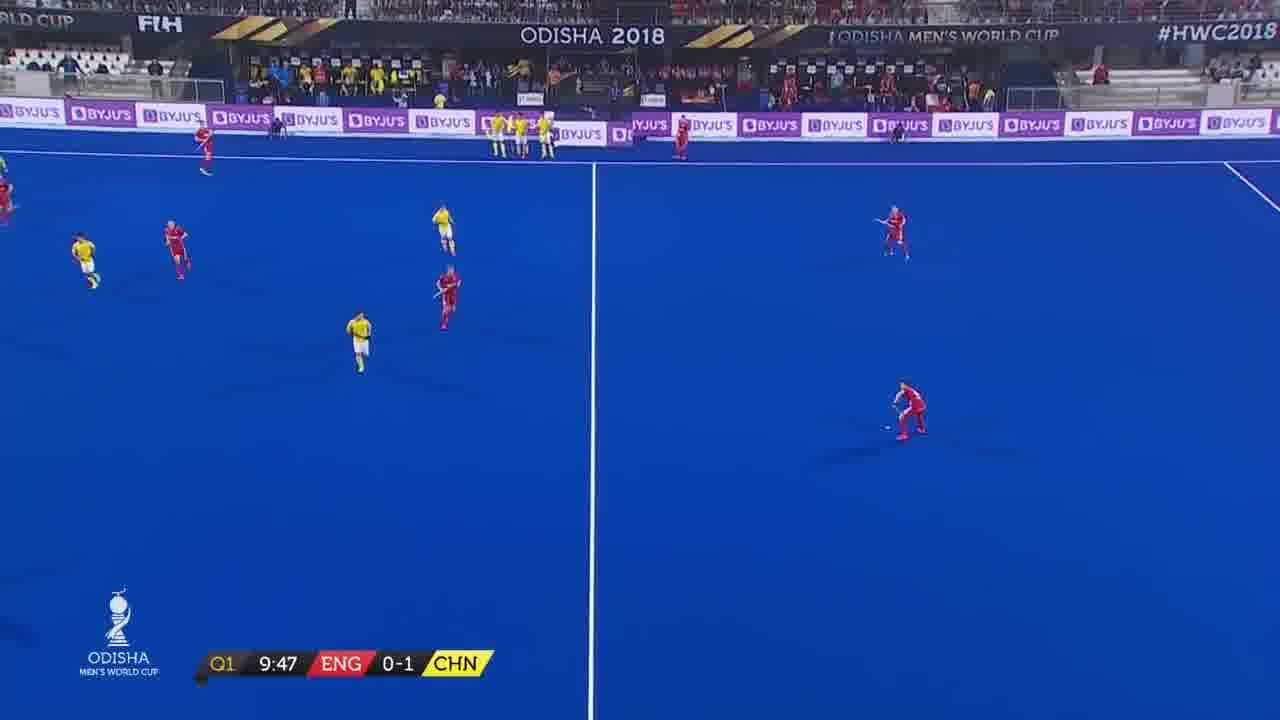ball: (881, 420, 892, 434)
